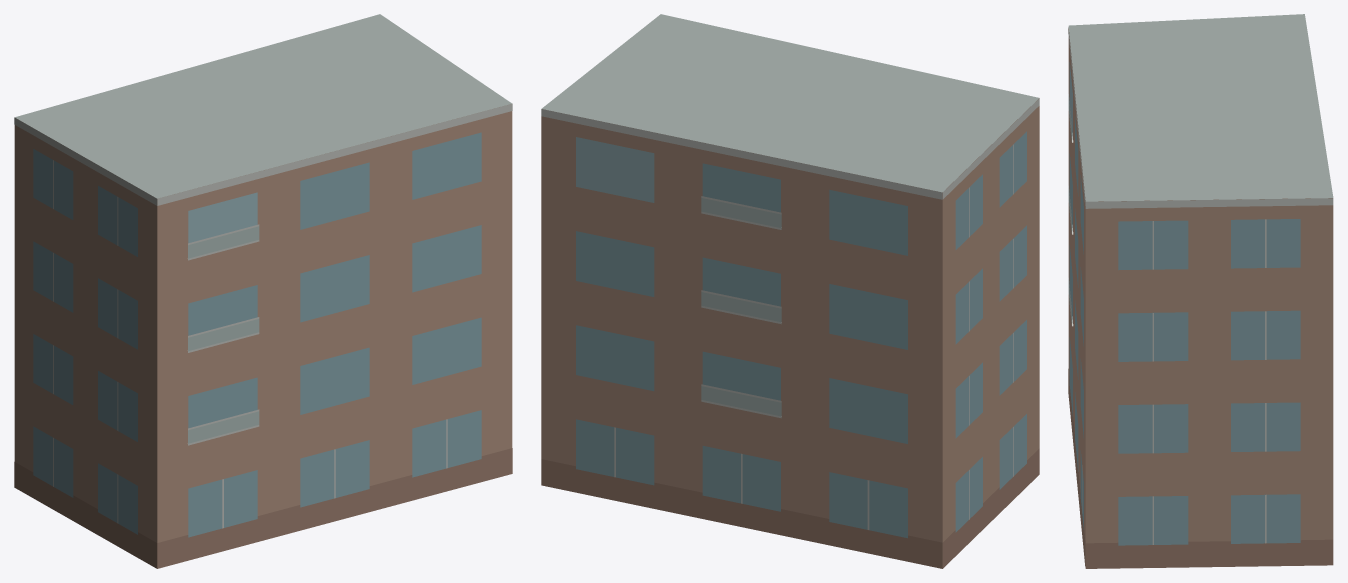
Rendered from survey-upis-32885301.glb.
The picture shows the model from 3 angles, left to right: view 1: azimuth 30°, elevation 25°; view 2: azimuth 150°, elevation 25°; view 3: azimuth 270°, elevation 25°; orthographic projection. The views are drawn at different scales.
Visible parts, largest first — view 1: survey-upis-32885301.tmp; view 2: survey-upis-32885301.tmp; view 3: survey-upis-32885301.tmp.
Boxes of the visible parts, x1,y1,x2,y2 form: survey-upis-32885301.tmp: (14,14,512,568); survey-upis-32885301.tmp: (541,14,1039,568); survey-upis-32885301.tmp: (1068,14,1333,568).
Bounding box in the file's own units: 13.6 × 12.4 × 8.12.
